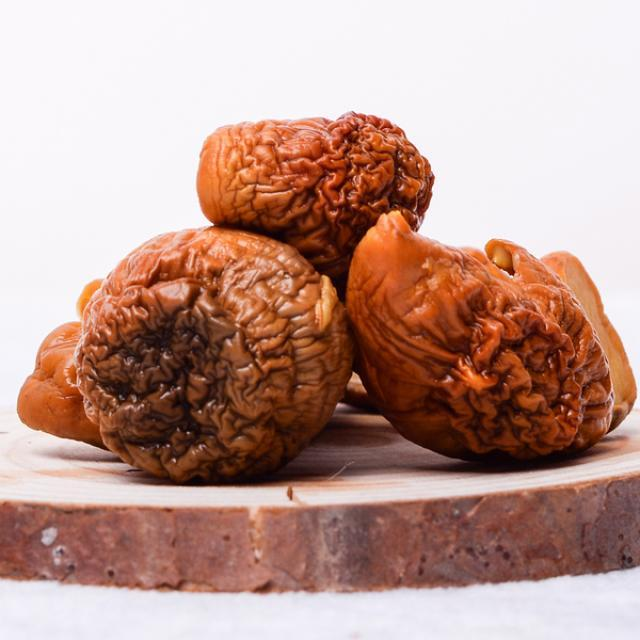Agaricus blazei Murill: (17, 117, 636, 465)
